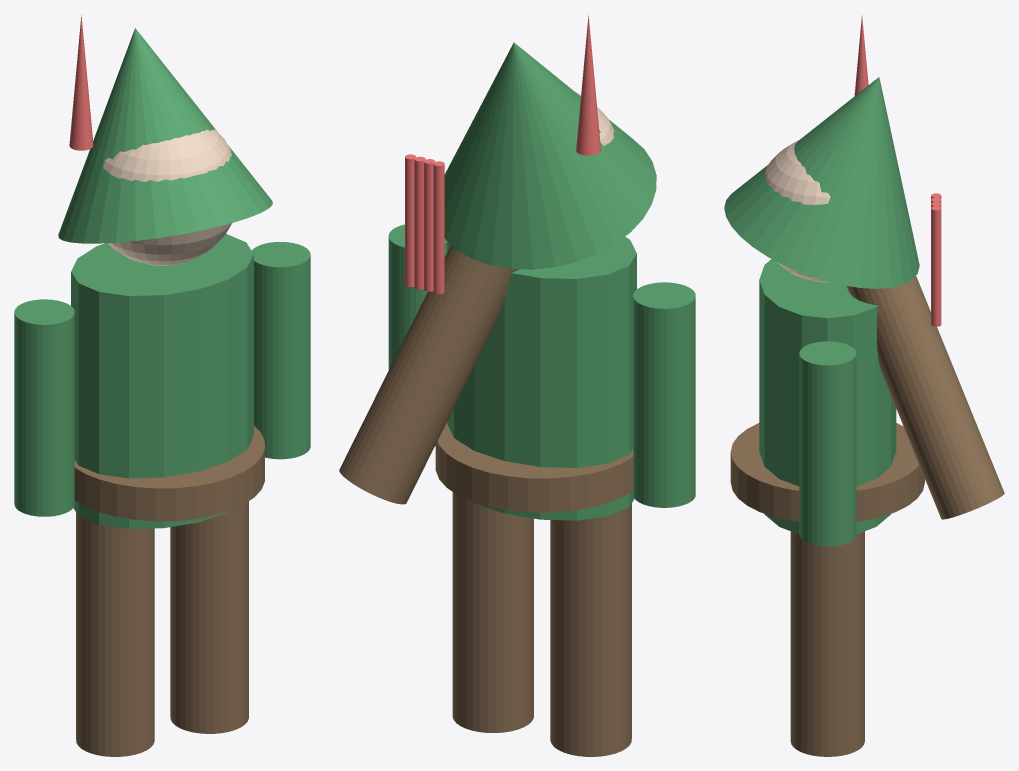
File: archer.glb
3 views of the same model, side by side, from view 1: azimuth 30°, elevation 25°; view 2: azimuth 150°, elevation 25°; view 3: azimuth 270°, elevation 25° (orthographic). The views are drawn at different scales.
Parts seen in each view (by area): view 1: Cylinder, Cone, Cylinder.009, Cylinder.010, Cylinder.007, Cylinder.008, Cylinder.001, Sphere, Cone.001; view 2: Cylinder, Cone, Cylinder.009, Cylinder.002, Cylinder.010, Cylinder.007, Cylinder.001, Cylinder.008, Cone.001, Cylinder.003, Cylinder.005, Cylinder.004 (+1 smaller); view 3: Cone, Cylinder, Cylinder.010, Cylinder.002, Cylinder.008, Cylinder.001, Sphere, Cylinder.006, Cone.001.
Boxes of the visible parts, x1,y1,x2,y2 form: Cylinder: (71,234,253,528); Cone: (58,28,272,243); Cylinder.009: (76,512,154,756); Cylinder.010: (170,501,248,733); Cylinder.007: (14,299,74,516); Cylinder.008: (252,242,310,459); Cylinder.001: (74,426,264,521); Sphere: (103,129,232,265); Cone.001: (69,14,93,150); Cylinder: (447,237,636,520); Cone: (444,42,656,269); Cylinder.009: (550,503,631,756); Cylinder.002: (339,245,518,504); Cylinder.010: (452,492,533,732); Cylinder.007: (633,282,695,507); Cylinder.001: (435,422,633,512); Cylinder.008: (388,224,447,446); Cone.001: (576,15,600,155); Cylinder.003: (433,161,444,293); Cylinder.005: (414,156,425,289); Cylinder.004: (424,159,435,291); Cone: (724,77,919,288); Cylinder: (759,259,896,534); Cylinder.010: (790,531,864,756); Cylinder.002: (846,276,1004,519); Cylinder.008: (799,341,856,546); Cylinder.001: (730,423,924,521); Sphere: (764,140,830,282); Cylinder.006: (931,206,941,326); Cone.001: (854,15,868,95).
Size of the model in its own units: 1.1 by 2.62 by 0.9826.
